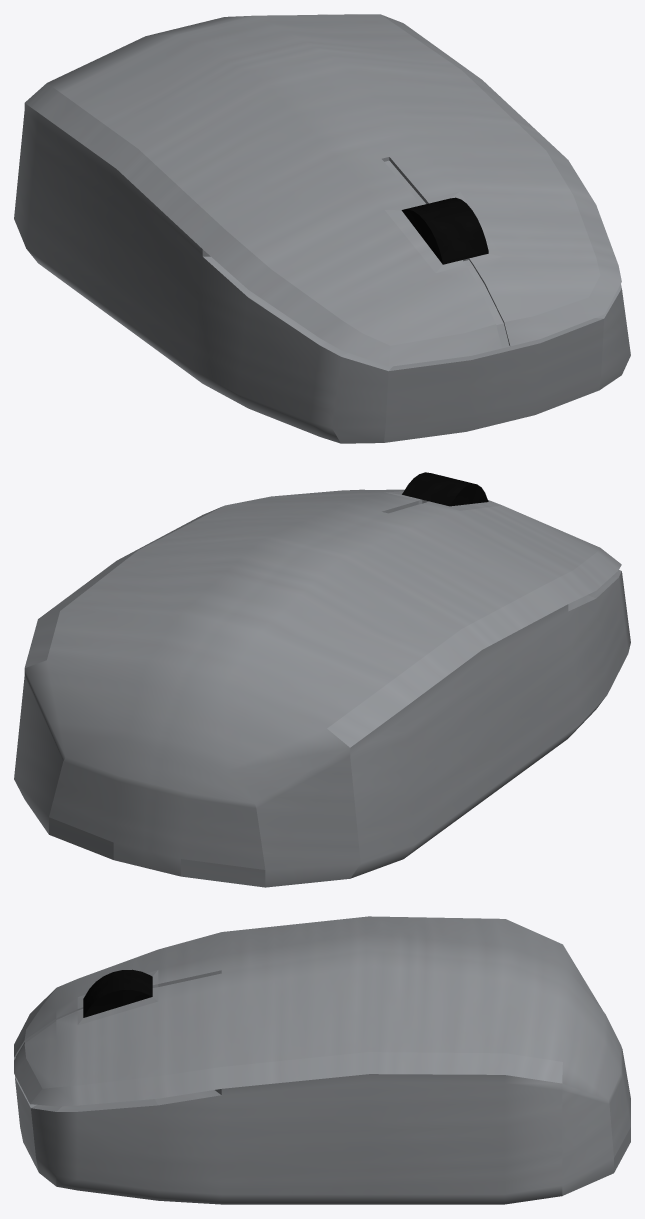
The model's file is Mouse.fbx.
3 renders of one model, top to bottom at view 1: azimuth 30°, elevation 25°; view 2: azimuth 150°, elevation 25°; view 3: azimuth 270°, elevation 25°, orthographic. The views are drawn at different scales.
Parts seen in each view (by area): view 1: pCube44; view 2: pCube44; view 3: pCube44.
Boxes of the visible parts, x1,y1,x2,y2 form: pCube44: (14, 14, 630, 443); pCube44: (14, 472, 630, 887); pCube44: (14, 916, 630, 1204).
Bounding box in the file's own units: 0.067 × 0.034 × 0.1069.
